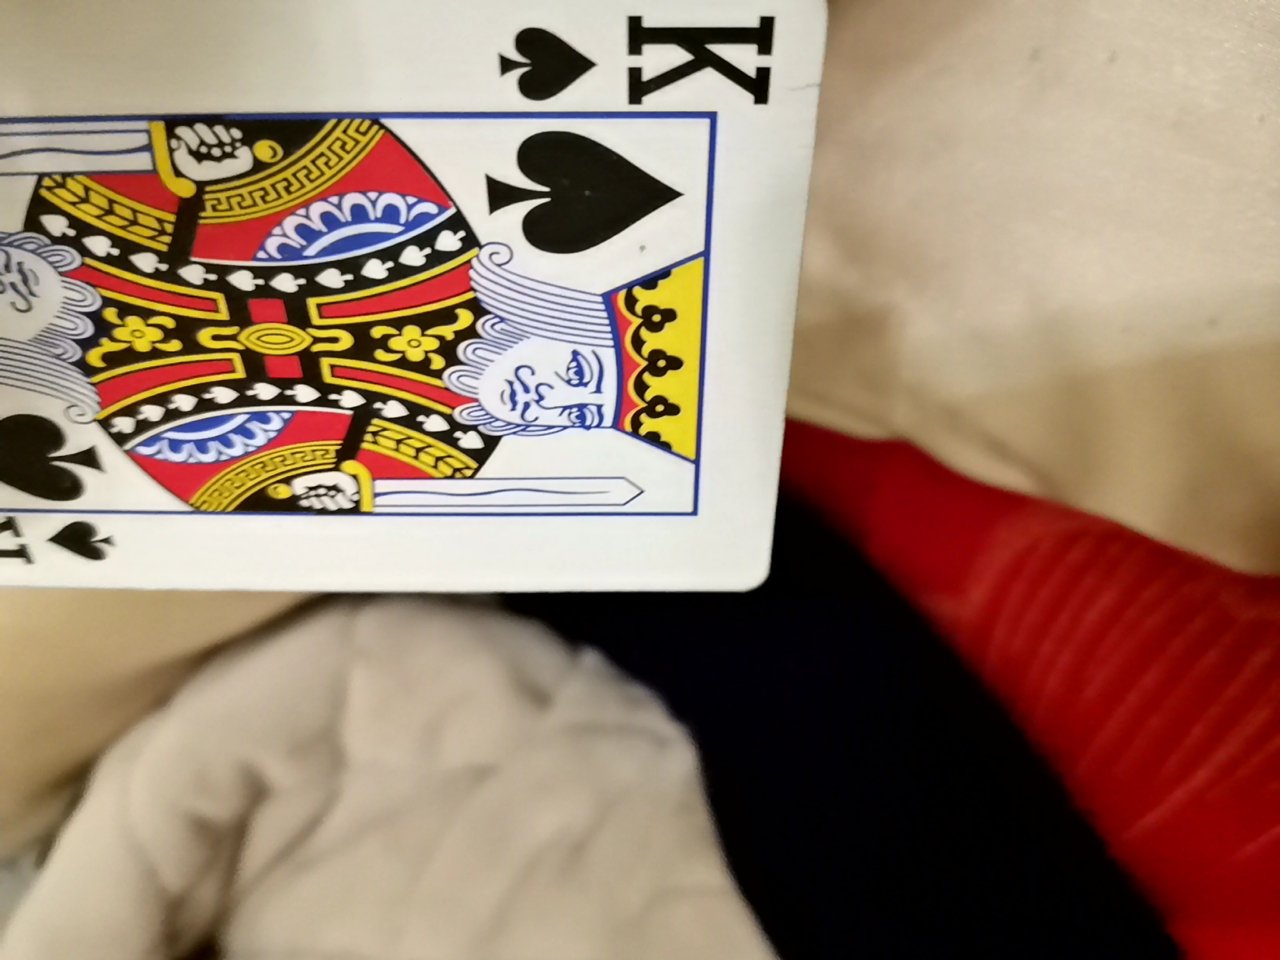ht k: (3, 5, 831, 613)
